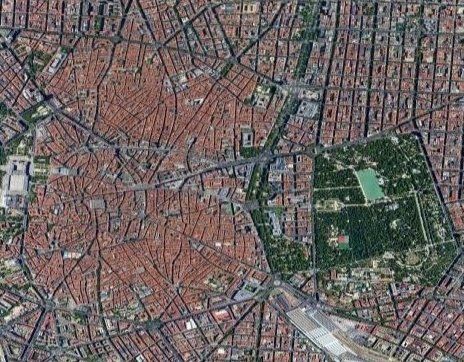train_station: (288, 304, 347, 358)
